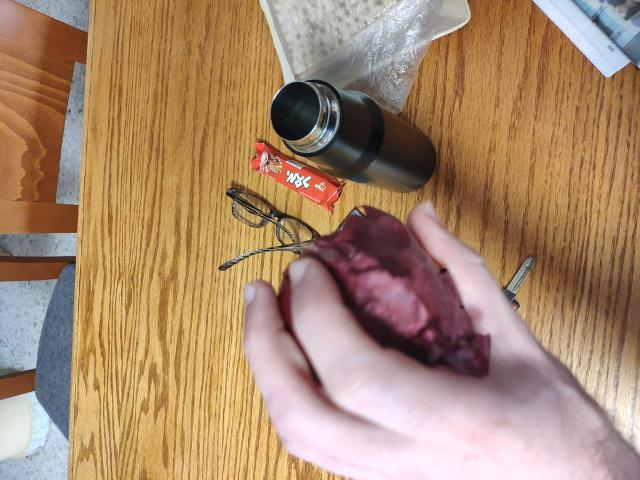onion: (281, 220, 486, 383)
